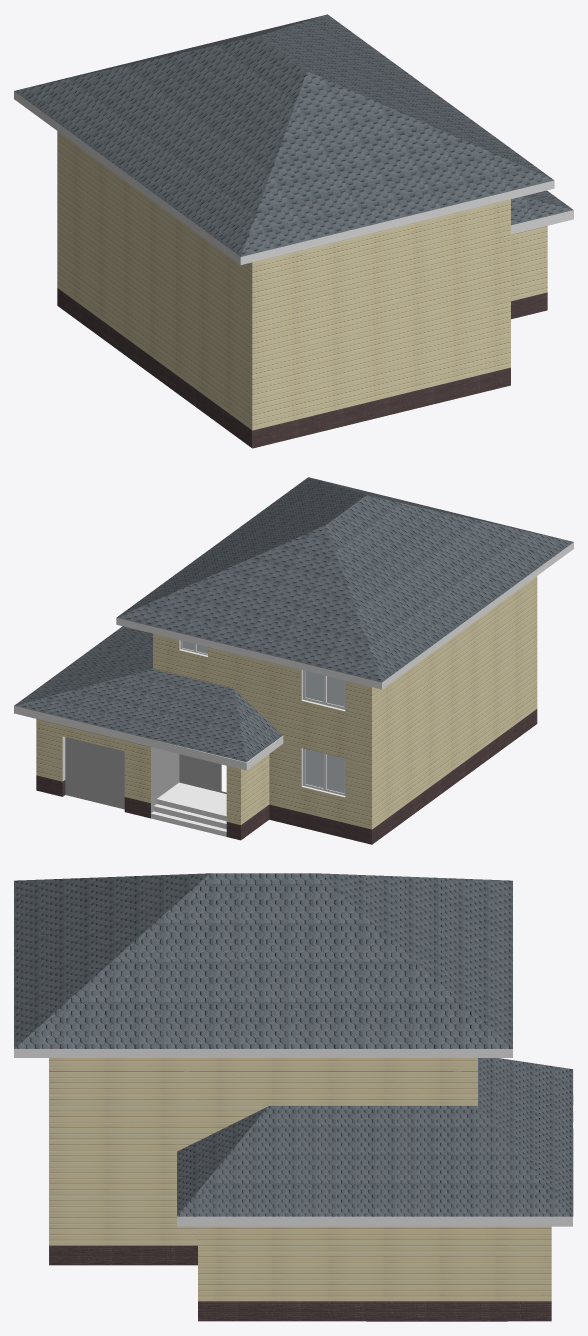
File: HouseForSit5.glb
The picture shows the model from 3 angles, top to bottom: view 1: azimuth 30°, elevation 25°; view 2: azimuth 150°, elevation 25°; view 3: azimuth 270°, elevation 25°; orthographic projection. The views are drawn at different scales.
Visible parts, largest first — view 1: Объект_Куб_1, Объект_Пирамида, Объект_Пирамида.1; view 2: Объект_Куб_1, Объект_Пирамида, Объект_Пирамида.1, Объект_Куб.1, Объект_Куб.1_1; view 3: Объект_Куб_1, Объект_Пирамида, Объект_Пирамида.1.
Part boxes in pixels (left/top/right/bottom): Объект_Куб_1: left=14, top=91, right=573, bottom=448; Объект_Пирамида: left=14, top=14, right=553, bottom=256; Объект_Пирамида.1: left=511, top=190, right=573, bottom=225; Объект_Куб_1: left=14, top=542, right=573, bottom=844; Объект_Пирамида: left=116, top=477, right=573, bottom=682; Объект_Пирамида.1: left=14, top=626, right=282, bottom=762; Объект_Куб.1: left=303, top=748, right=345, bottom=795; Объект_Куб.1_1: left=303, top=670, right=345, bottom=709; Объект_Куб_1: left=14, top=1049, right=573, bottom=1321; Объект_Пирамида: left=14, top=873, right=512, bottom=1048; Объект_Пирамида.1: left=177, top=1058, right=573, bottom=1216.
Bounding box in the file's own units: 479 × 329 × 519.
Materials: 8 (3 with a texture image).
